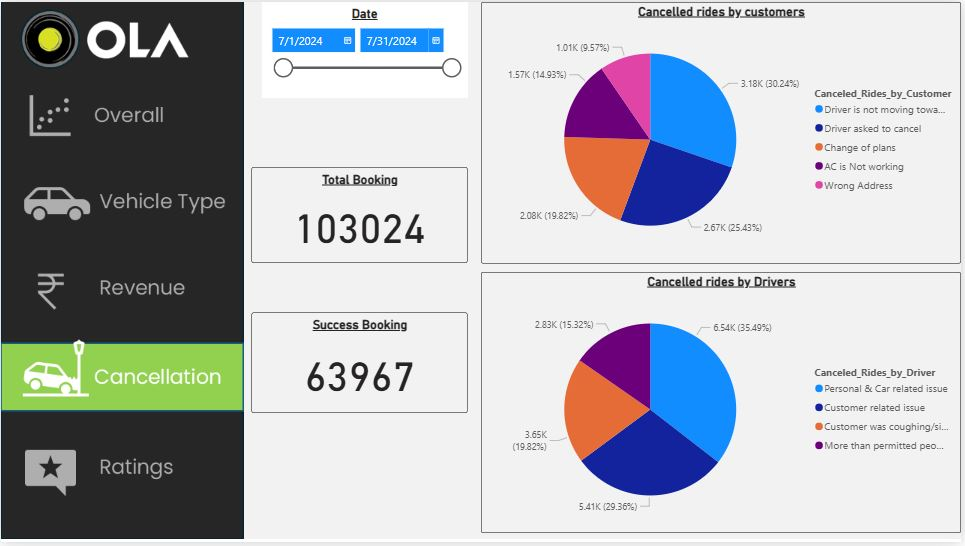

Layout of this report page (visuals, bound fields, positions):
{"tool":"powerbi","page":{"name":"Cancellation","canvas":[1280,720],"ordinal":3},"visuals":[{"type":"actionButton","box":[0,201.3,324.3,100.7],"z":0},{"type":"actionButton","box":[10,211.3,324.3,100.7],"z":1000},{"type":"actionButton","box":[0,450.5,324.3,97.5],"z":2000},{"type":"actionButton","box":[0,337.1,324.3,97.5],"z":3000},{"type":"actionButton","box":[0,576.8,324.3,97.5],"z":4000},{"type":"actionButton","box":[0,105.4,324.3,100.7],"z":5000},{"type":"pieChart","title":"Cancelled rides by customers","fields":{"Y":["CountNonNull(July.Canceled_Rides_by_Customer)"],"Category":["July.Canceled_Rides_by_Customer"]},"box":[640,0,640,348.3],"z":6000},{"type":"pieChart","title":"Cancelled rides by Drivers","fields":{"Y":["CountNonNull(July.Canceled_Rides_by_Driver)"],"Category":["July.Canceled_Rides_by_Driver"]},"box":[640,360,640,348],"z":7000},{"type":"slicer","title":"Date","fields":{"Values":["July.Date"]},"box":[348,0,274,128],"z":8000},{"type":"card","title":"Total Booking","fields":{"Values":["Count(July.Booking_ID)"]},"box":[334,220,288,128],"z":9000},{"type":"card","title":"Success Booking","fields":{"Values":["Count(July.Booking_ID)"]},"box":[334,414,288,134],"z":10000}]}

Visuals, with their boxes on the page's 1280x720 design canvas (x1, y1, x2, y2). These are canvas units, not pixel positions in the 965x546 screenshot, which may show the page scaled, cropped or inside an application window:
actionButton: {"x1": 0, "y1": 201, "x2": 324, "y2": 302}
actionButton: {"x1": 10, "y1": 211, "x2": 334, "y2": 312}
actionButton: {"x1": 0, "y1": 450, "x2": 324, "y2": 548}
actionButton: {"x1": 0, "y1": 337, "x2": 324, "y2": 435}
actionButton: {"x1": 0, "y1": 577, "x2": 324, "y2": 674}
actionButton: {"x1": 0, "y1": 105, "x2": 324, "y2": 206}
"Cancelled rides by customers" pieChart: {"x1": 640, "y1": 0, "x2": 1280, "y2": 348}
"Cancelled rides by Drivers" pieChart: {"x1": 640, "y1": 360, "x2": 1280, "y2": 708}
"Date" slicer: {"x1": 348, "y1": 0, "x2": 622, "y2": 128}
"Total Booking" card: {"x1": 334, "y1": 220, "x2": 622, "y2": 348}
"Success Booking" card: {"x1": 334, "y1": 414, "x2": 622, "y2": 548}
